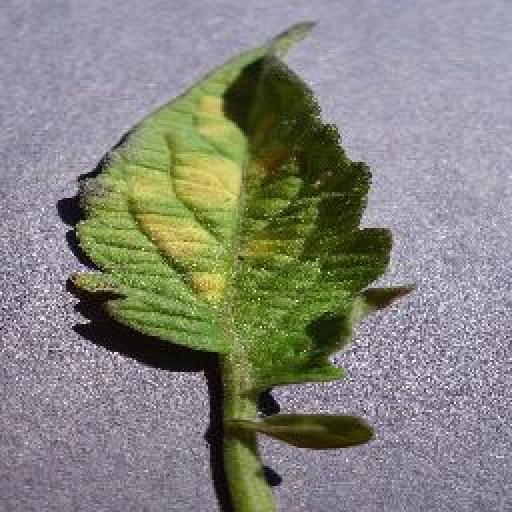Leaf Mold: (68, 19, 418, 393)
